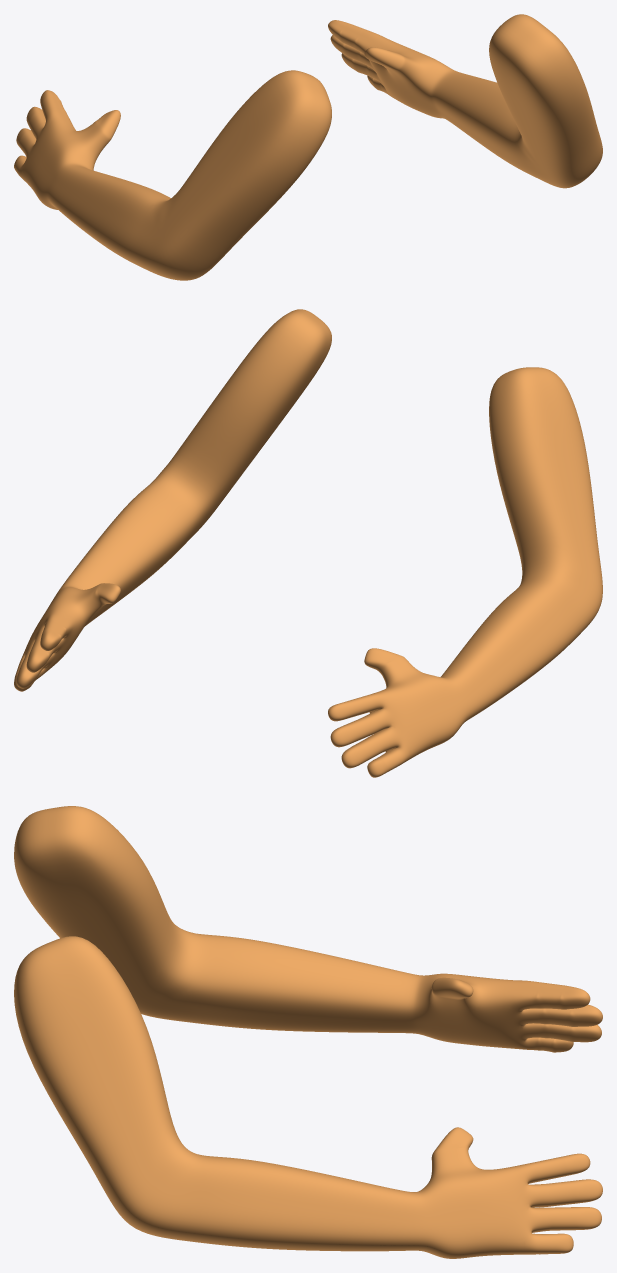
File: HH_FPSHand.fbx
3 views of the same model, one above another, from view 1: azimuth 30°, elevation 25°; view 2: azimuth 150°, elevation 25°; view 3: azimuth 270°, elevation 25° (orthographic). The views are drawn at different scales.
Visible parts, largest first — view 1: Arms; view 2: Arms; view 3: Arms.
Boxes of the visible parts, x1,y1,x2,y2 form: Arms: (14,14,602,280); Arms: (14,309,602,777); Arms: (14,806,602,1258).
Size of the model in its own units: 131 by 66.29 by 126.
